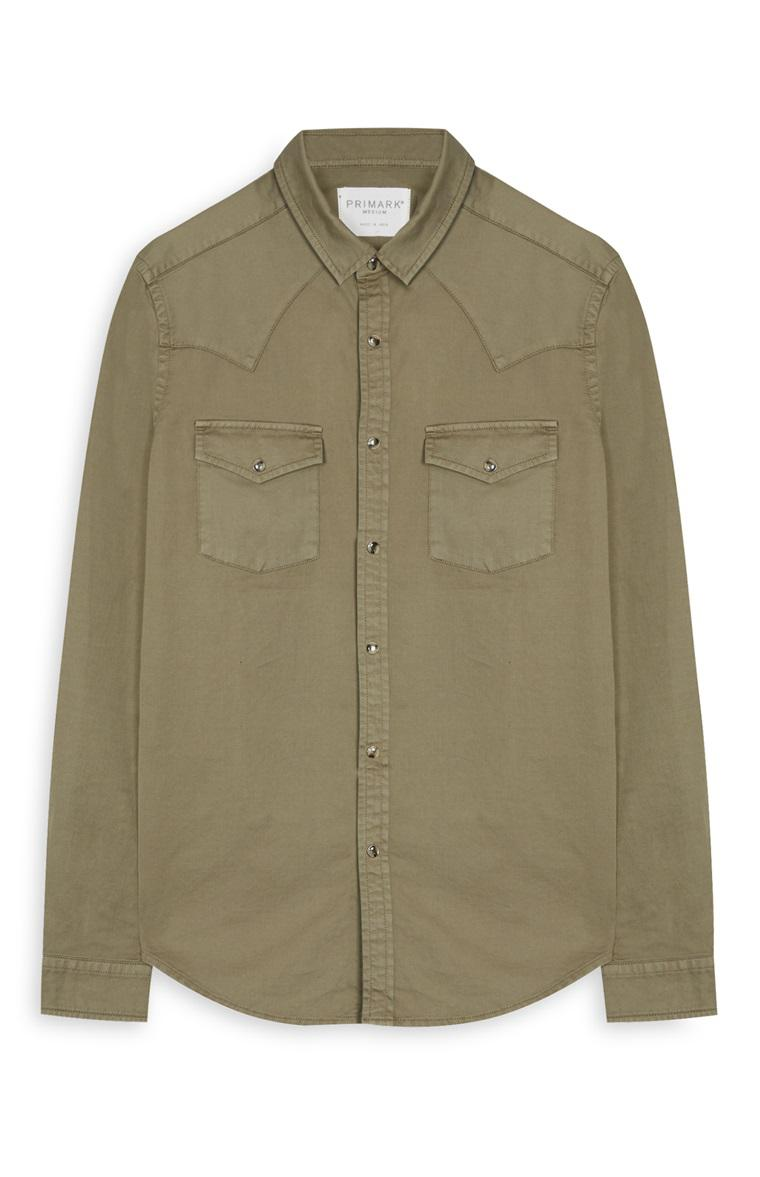teeshirt: (41, 117, 718, 1022)
